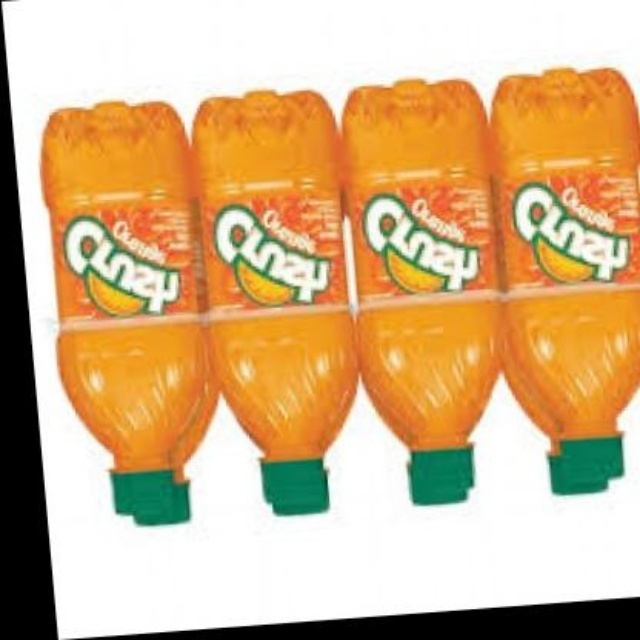trash: (5, 0, 638, 637), (43, 69, 638, 523), (42, 102, 215, 523), (194, 91, 355, 514), (343, 80, 498, 503), (492, 69, 638, 492)
